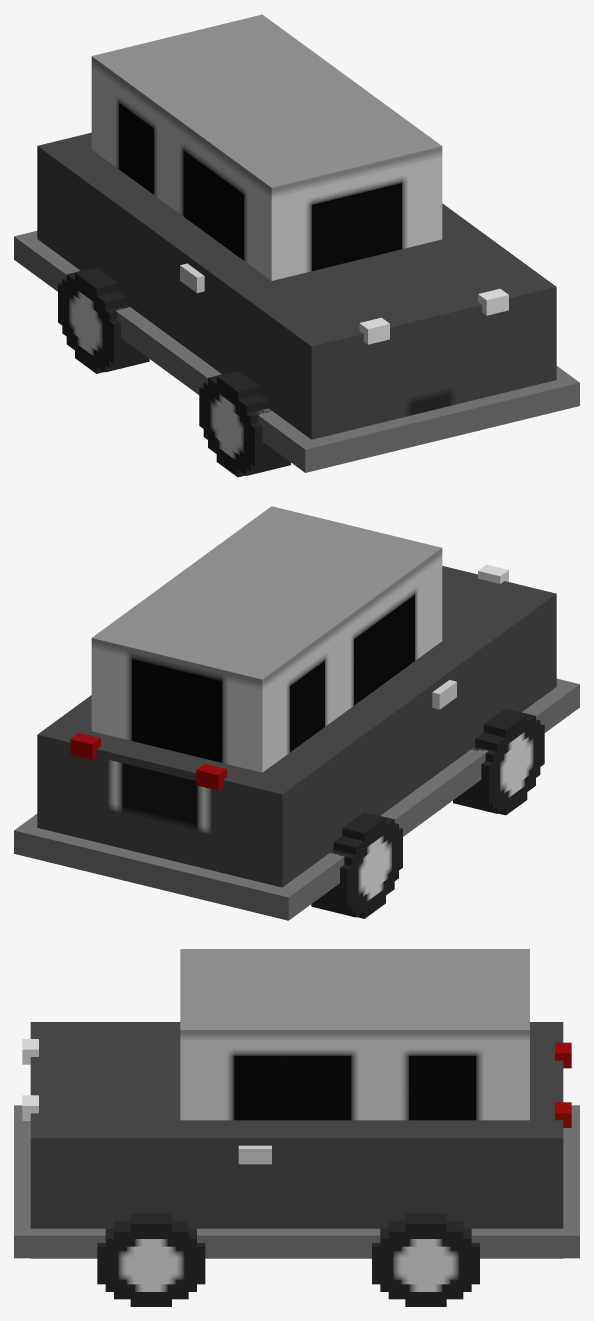
Rendered from car_7.fbx.
3 renders of one model, top to bottom at view 1: azimuth 30°, elevation 25°; view 2: azimuth 150°, elevation 25°; view 3: azimuth 270°, elevation 25°, orthographic. The views are drawn at different scales.
Visible parts, largest first — view 1: body, back_right_wheel, back_left_wheel; view 2: body, back_right_wheel, back_left_wheel; view 3: body, front_right_wheel, front_left_wheel.
Boxes of the visible parts, x1,y1,x2,y2 form: body: (14,14,579,472); back_right_wheel: (199,371,290,477); back_left_wheel: (58,267,149,373); body: (14,506,579,920); back_right_wheel: (453,709,544,815); back_left_wheel: (311,812,402,918); body: (14,949,579,1258); front_right_wheel: (97,1213,205,1306); front_left_wheel: (372,1213,479,1306).
Size of the model in its own units: 39 by 33 by 68.
Materials: 1 (1 with a texture image).
